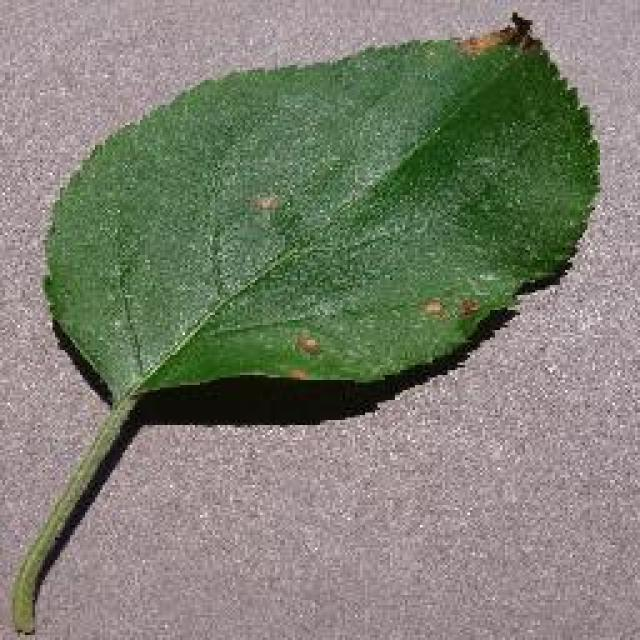Black_rot: (8, 10, 602, 635)
